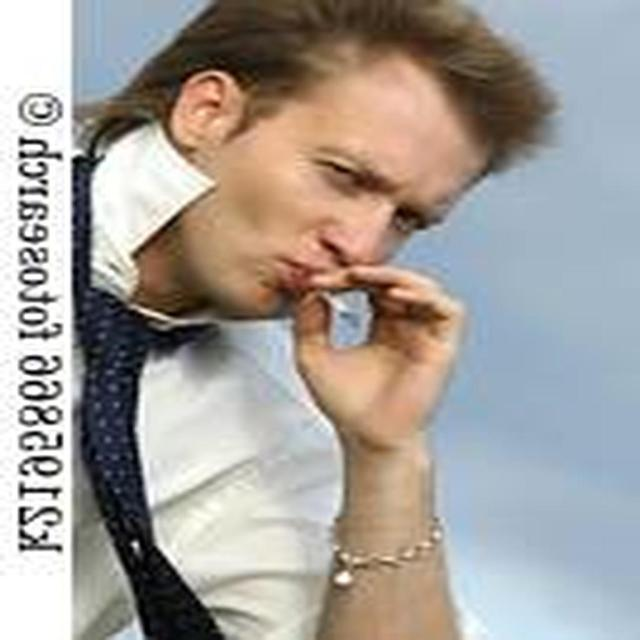smoking: (162, 0, 547, 449)
